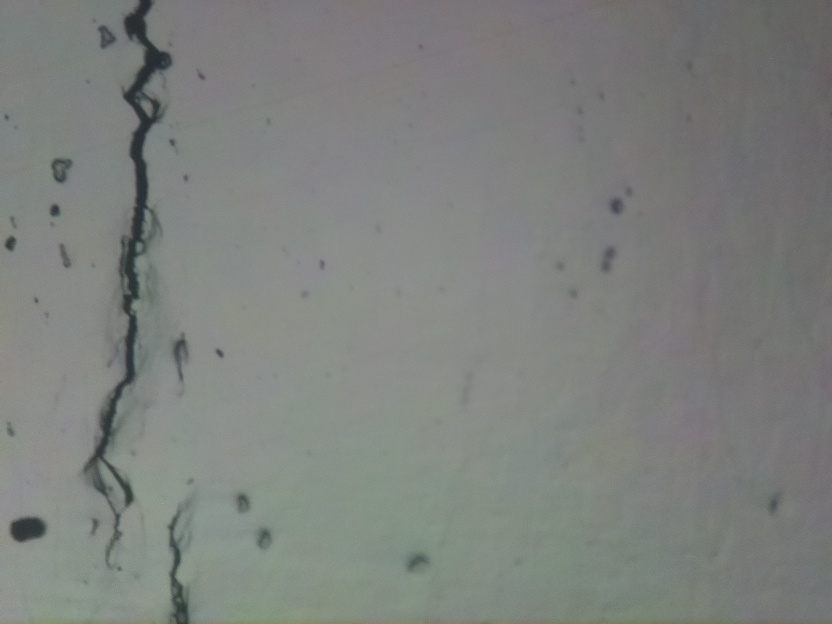crack: (83, 0, 174, 555), (164, 494, 203, 624)
